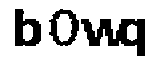0: (46, 5, 79, 48)
b: (10, 6, 44, 50)
q: (124, 16, 150, 60)
w: (80, 16, 124, 50)
